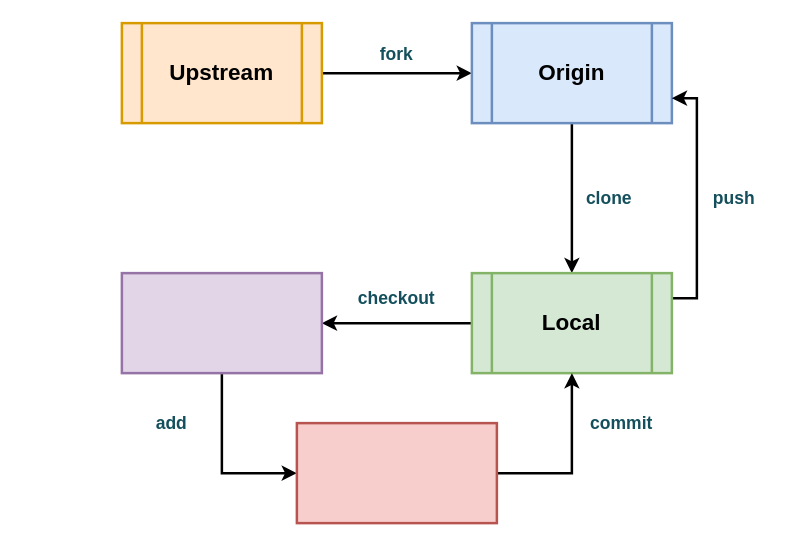
Image size: 793x545. Some labels were removed from this diagram. The shapes that lost their labels are listed below. From the top down, each one's box as (x1, y1, x2, y2) in pixels, then its label:
(120, 271, 322, 374): Working Directory
(295, 421, 498, 524): Staging Area
